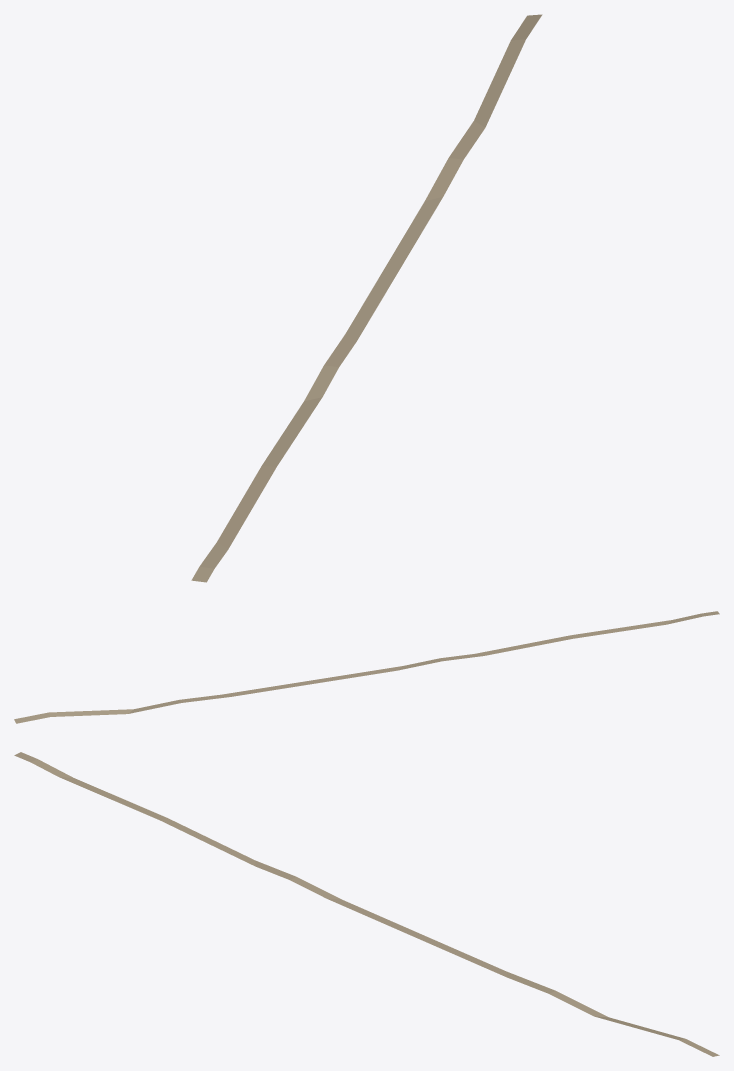
The model's file is farm_-24_-26_track.glb.
The picture shows the model from 3 angles, top to bottom: view 1: azimuth 30°, elevation 25°; view 2: azimuth 150°, elevation 25°; view 3: azimuth 270°, elevation 25°; orthographic projection. The views are drawn at different scales.
Visible parts, largest first — view 1: geometry_0; view 2: geometry_0; view 3: geometry_0.
Part boxes in pixels (x1,y1,x2,y2): geometry_0: (191,14,542,582); geometry_0: (14,611,719,723); geometry_0: (14,752,719,1056).
Size of the model in its own units: 211 by 11.2 by 225.
